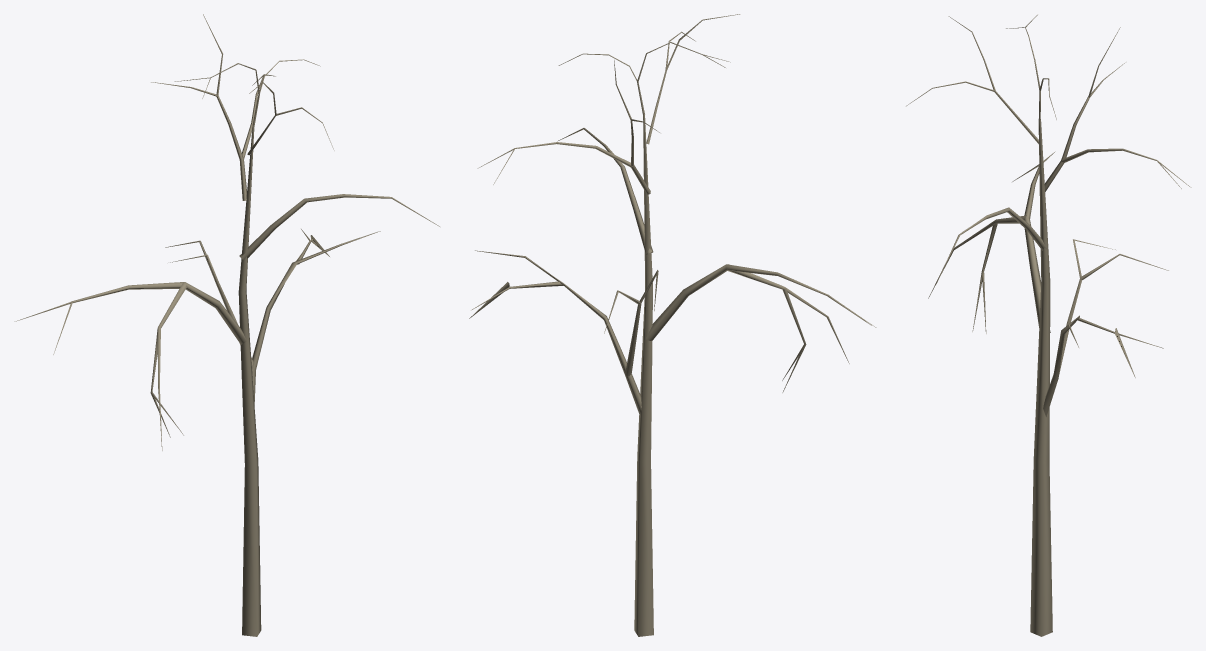
The model's file is SadTrunk.fbx.
The picture shows the model from 3 angles, left to right: view 1: azimuth 30°, elevation 25°; view 2: azimuth 150°, elevation 25°; view 3: azimuth 270°, elevation 25°; orthographic projection. The views are drawn at different scales.
Visible parts, largest first — view 1: SadTrunk_LOD0; view 2: SadTrunk_LOD0; view 3: SadTrunk_LOD0.
Boxes of the visible parts, box(x1,y1,x2,y2) form: SadTrunk_LOD0: box(14, 14, 439, 636); SadTrunk_LOD0: box(469, 14, 876, 636); SadTrunk_LOD0: box(906, 14, 1191, 636).
Bounding box in the file's own units: 784 × 1174 × 507.
